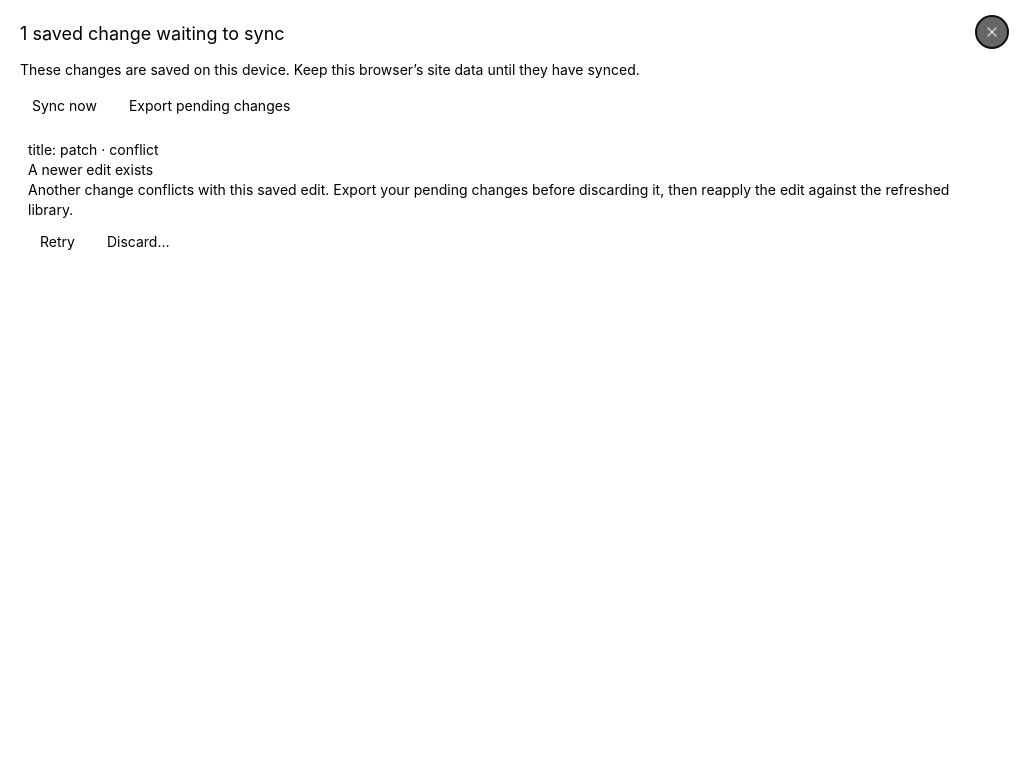
keeps failed work visible and reports a refused prerequisite discard
Expected: the text "A newer edit exists" is shown, [28,161,153,178]
Click the button "Discard…" at (138,242), box [95,228,182,256]
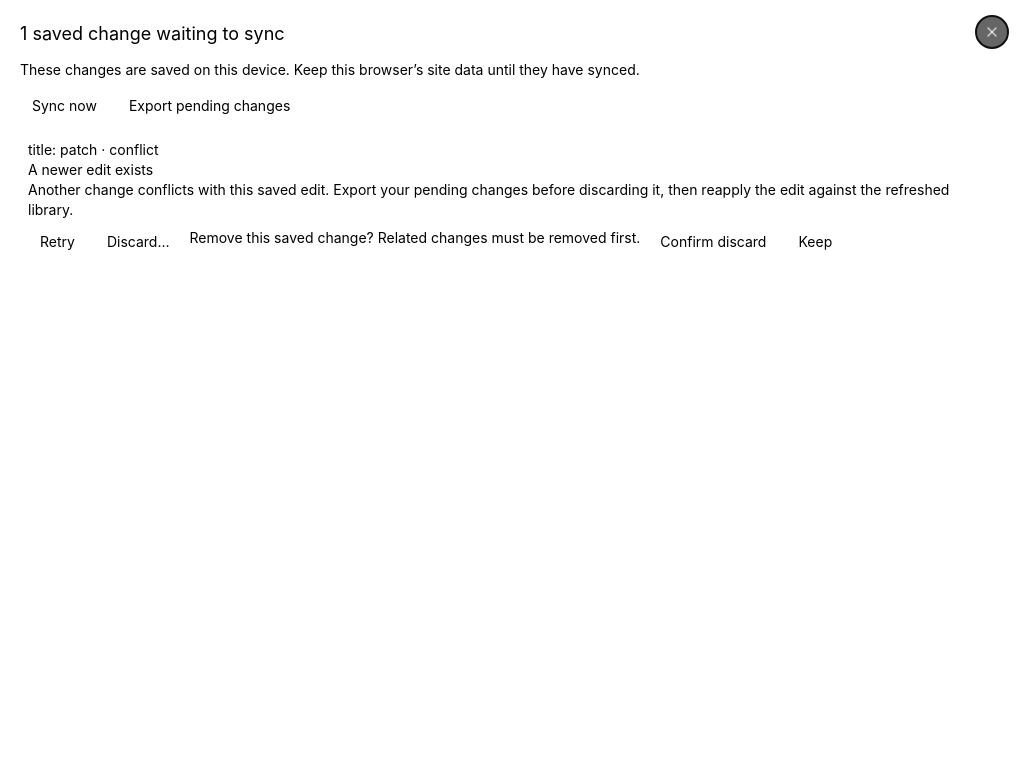
Click the button "Confirm discard" at (713,242), box [648,228,778,256]
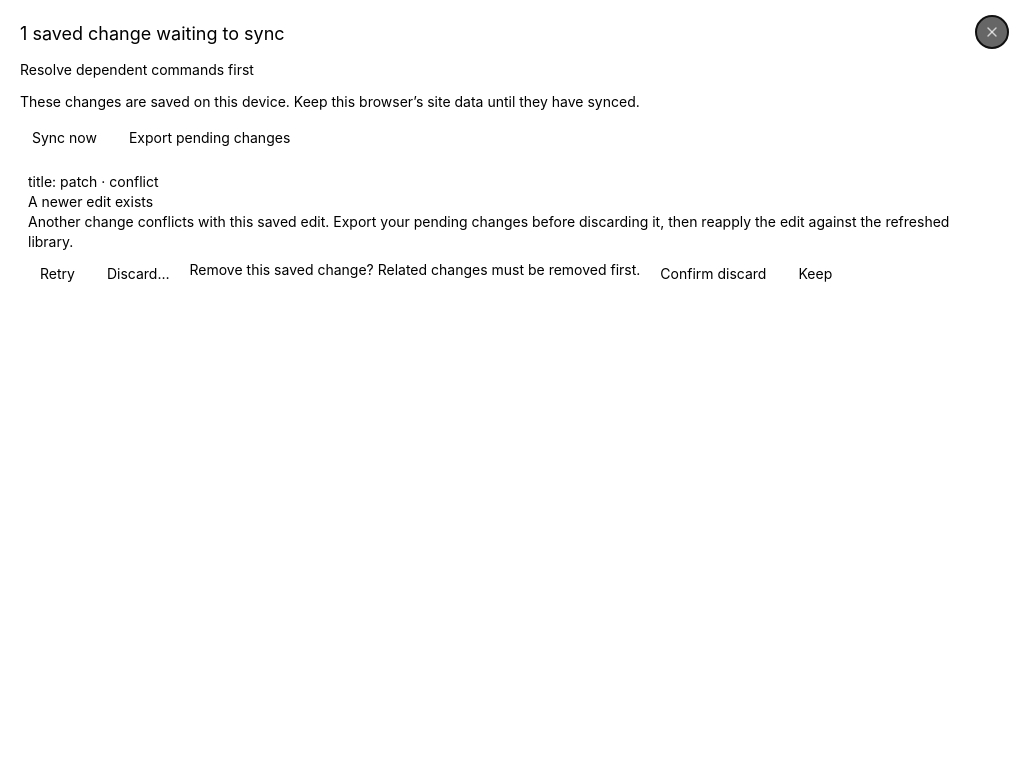
Result: the message reads "Resolve dependent commands first" at [20,61,254,78]
